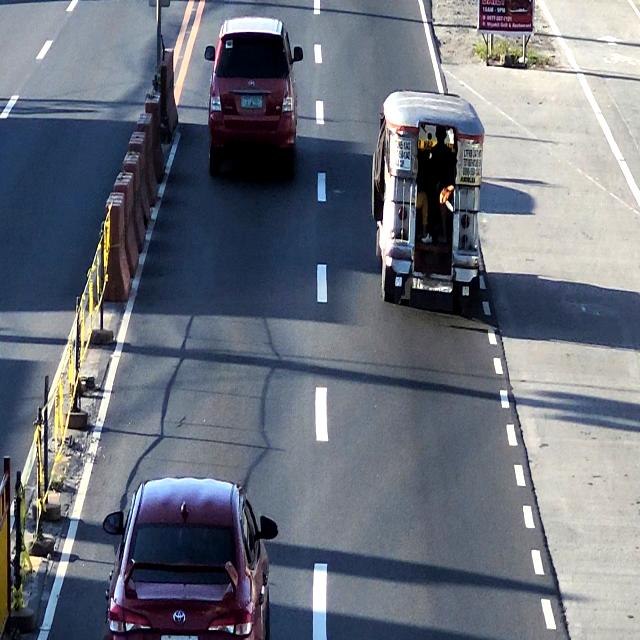Car: (102, 473, 276, 640), (209, 20, 297, 170)
Jeep: (378, 93, 482, 308)
License-Plate: (241, 92, 264, 112)
